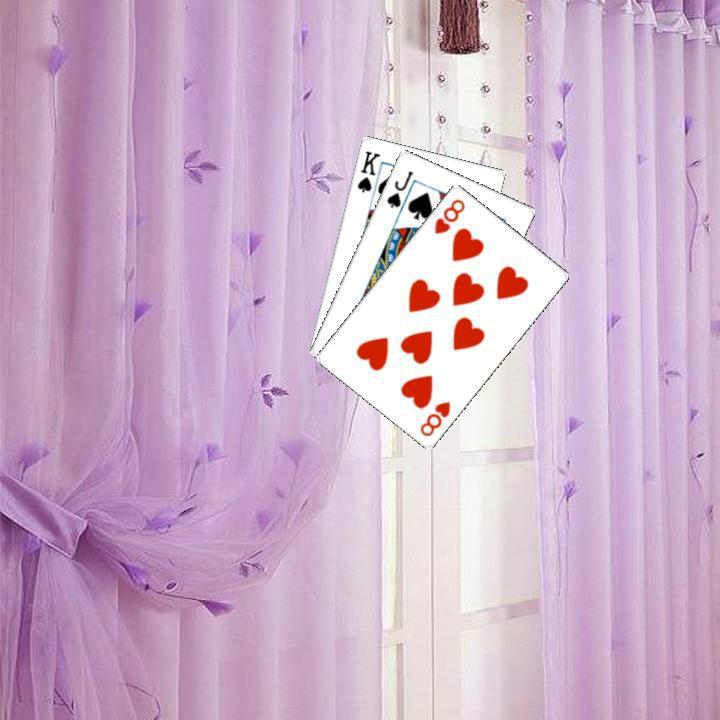8: (430, 194, 467, 236), (415, 397, 452, 438)
J: (382, 166, 415, 210)
K: (352, 146, 382, 194)
